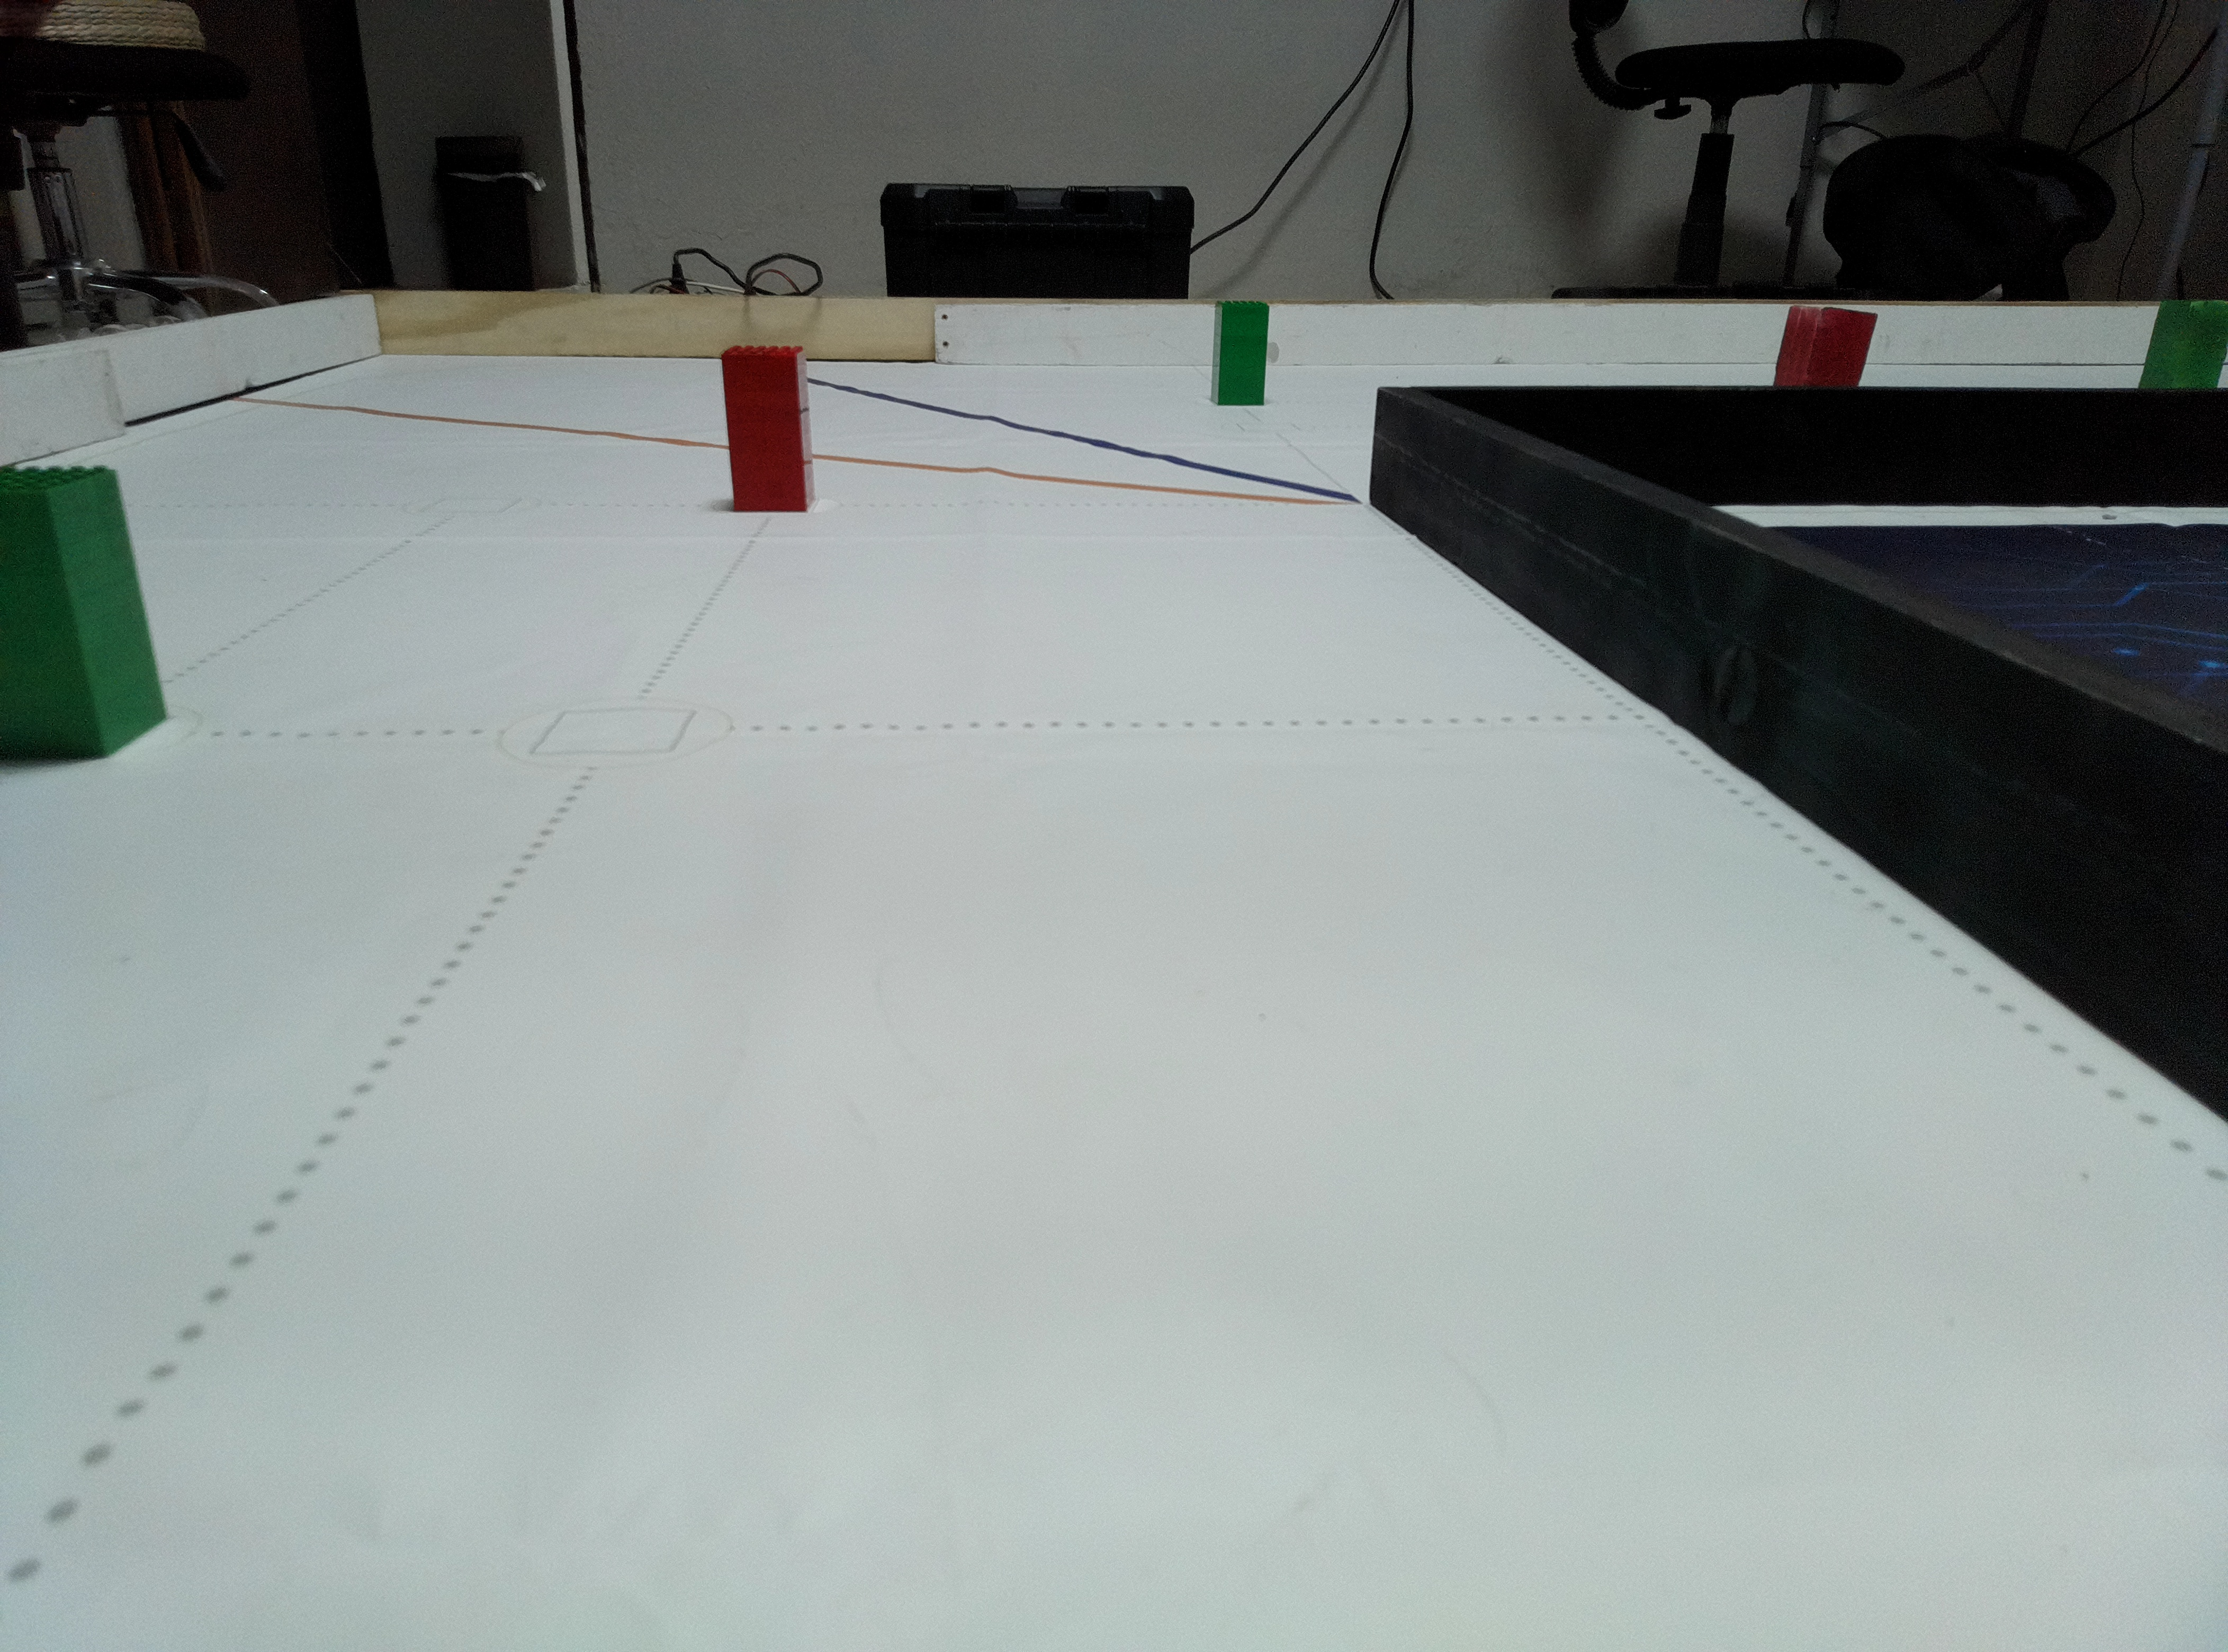greenbox: (0, 462, 179, 764), (2136, 298, 2228, 389), (1208, 297, 1272, 408)
redbox: (720, 344, 817, 515), (1768, 304, 1879, 389)
